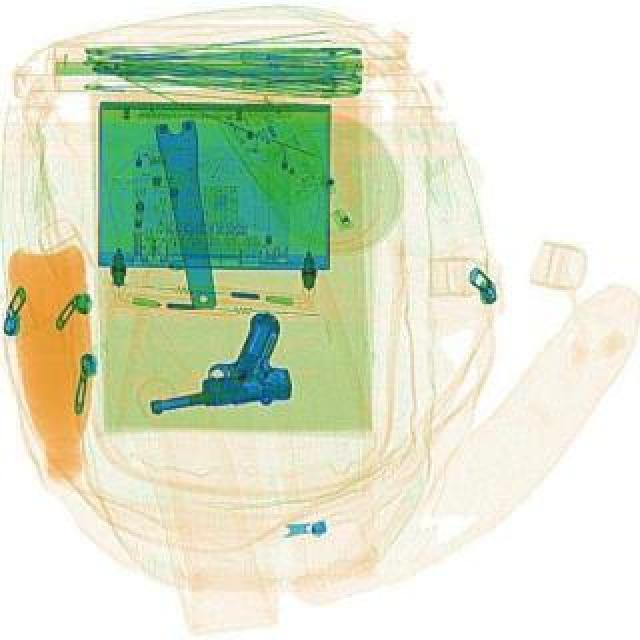gun: (136, 314, 296, 426)
